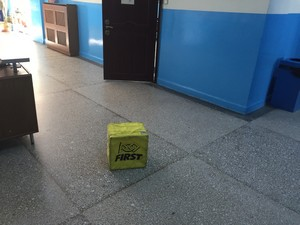cube: (107, 122, 147, 171)
